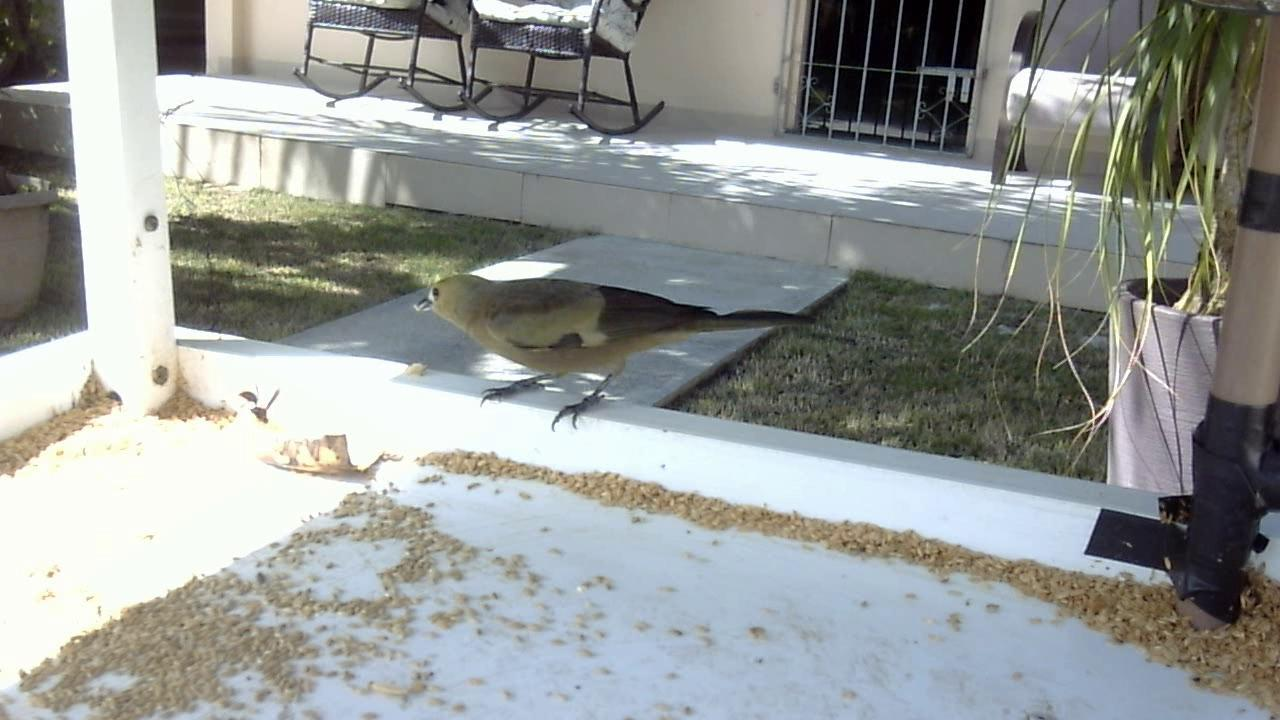sanhaco_do_coqueiro: (411, 253, 833, 442)
